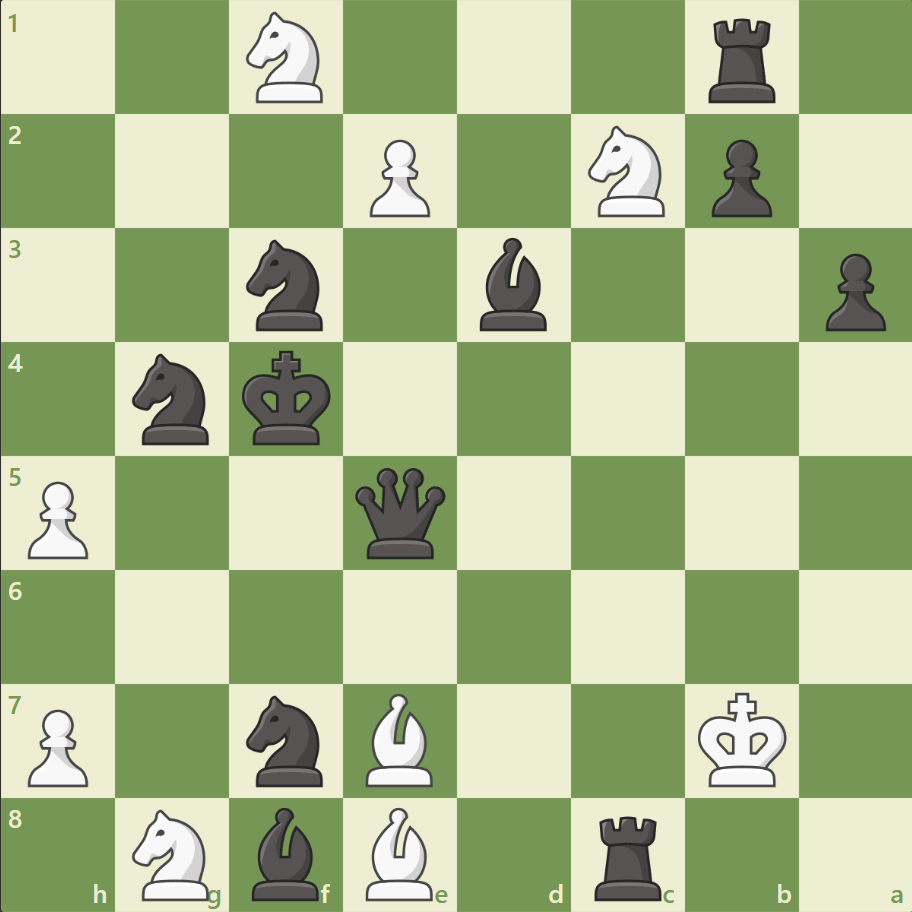B: (358, 801, 442, 904), (358, 687, 442, 790)
K: (692, 685, 792, 793)
N: (124, 802, 222, 904), (238, 7, 335, 110), (579, 121, 676, 223)
P: (20, 700, 95, 791), (20, 473, 95, 564), (361, 132, 435, 223)
b: (244, 801, 328, 904), (471, 233, 555, 336)
k: (238, 344, 338, 452)
n: (124, 348, 222, 450), (238, 688, 335, 791), (238, 234, 335, 337)
p: (701, 132, 776, 223), (815, 246, 889, 337)
q: (351, 463, 450, 562)
r: (587, 806, 670, 904), (700, 12, 783, 109)
